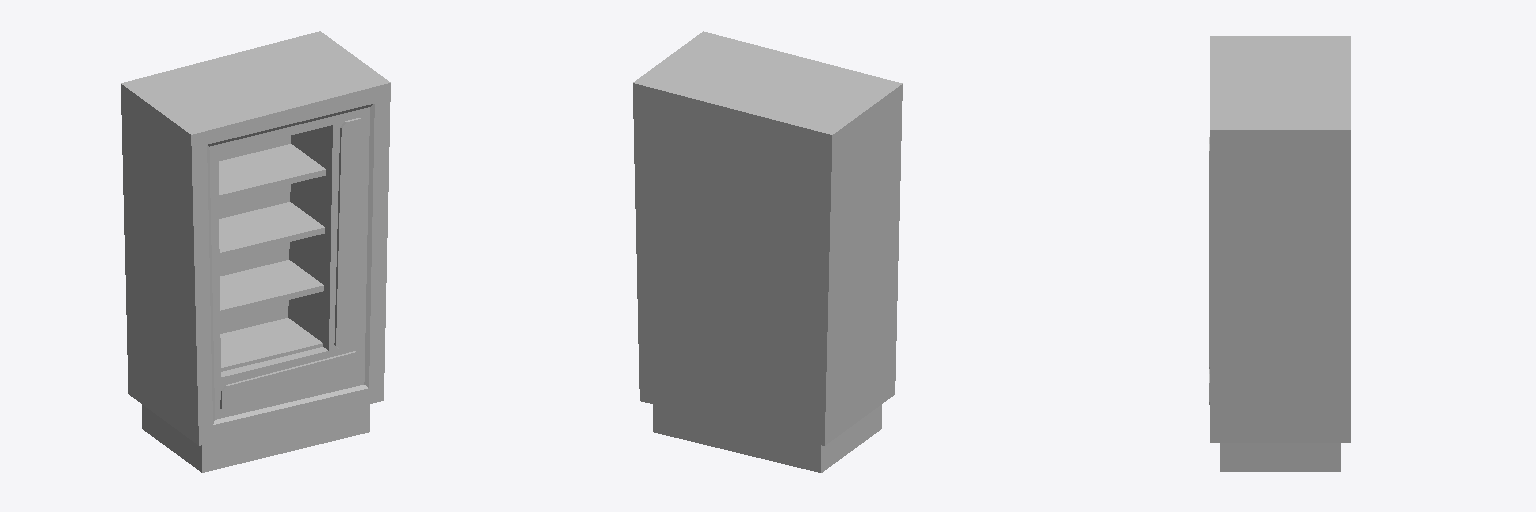
The model's file is refrgrtr.obj.
3 views of the same model, side by side, from view 1: azimuth 30°, elevation 25°; view 2: azimuth 150°, elevation 25°; view 3: azimuth 270°, elevation 25° (orthographic).
Visible parts, largest first — view 1: Cube_Cube.002, Cube.001_Cube.003, Cube.002_Cube.004, Cube.003_Cube.005; view 2: Cube_Cube.002; view 3: Cube_Cube.002.
Part boxes in pixels (x1,y1,x2,y2): Cube_Cube.002: (121,31,390,472); Cube.001_Cube.003: (219,144,325,371); Cube.002_Cube.004: (334,118,365,349); Cube.003_Cube.005: (220,351,362,412); Cube_Cube.002: (633,31,902,472); Cube_Cube.002: (1210,36,1350,471).
Size of the model in its own units: 0.7459 by 1.25 by 0.4586.